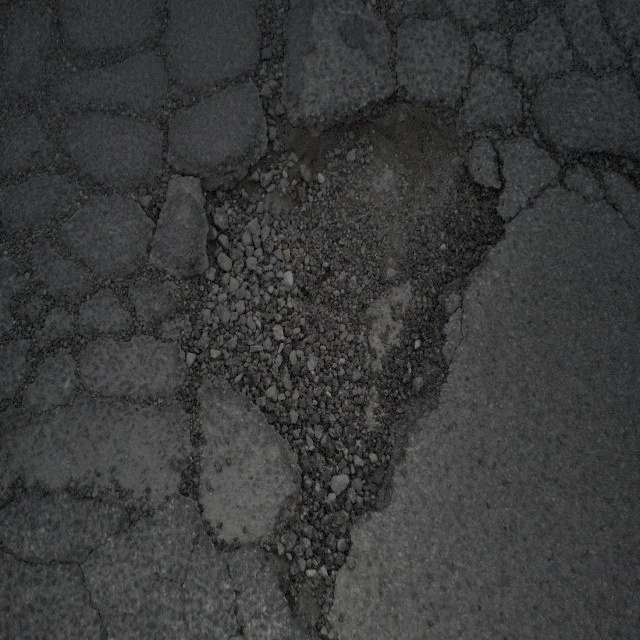pothole: (191, 89, 504, 602)
